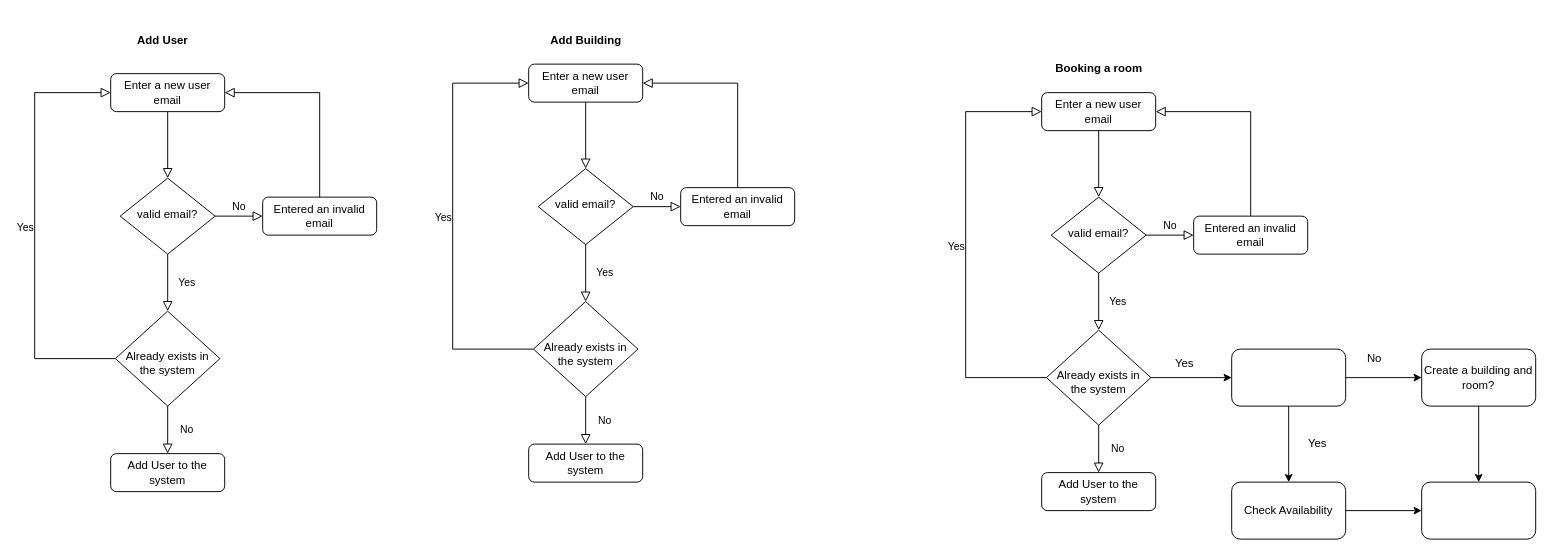
This 1552x556 diagram has some shape labels left out. Here are the shapes that lost their labels. From the top down, the centre of each, then its label:
At [1288,377]: "Check if the room and bulding exists".
At [1478,510]: "Book Room".
